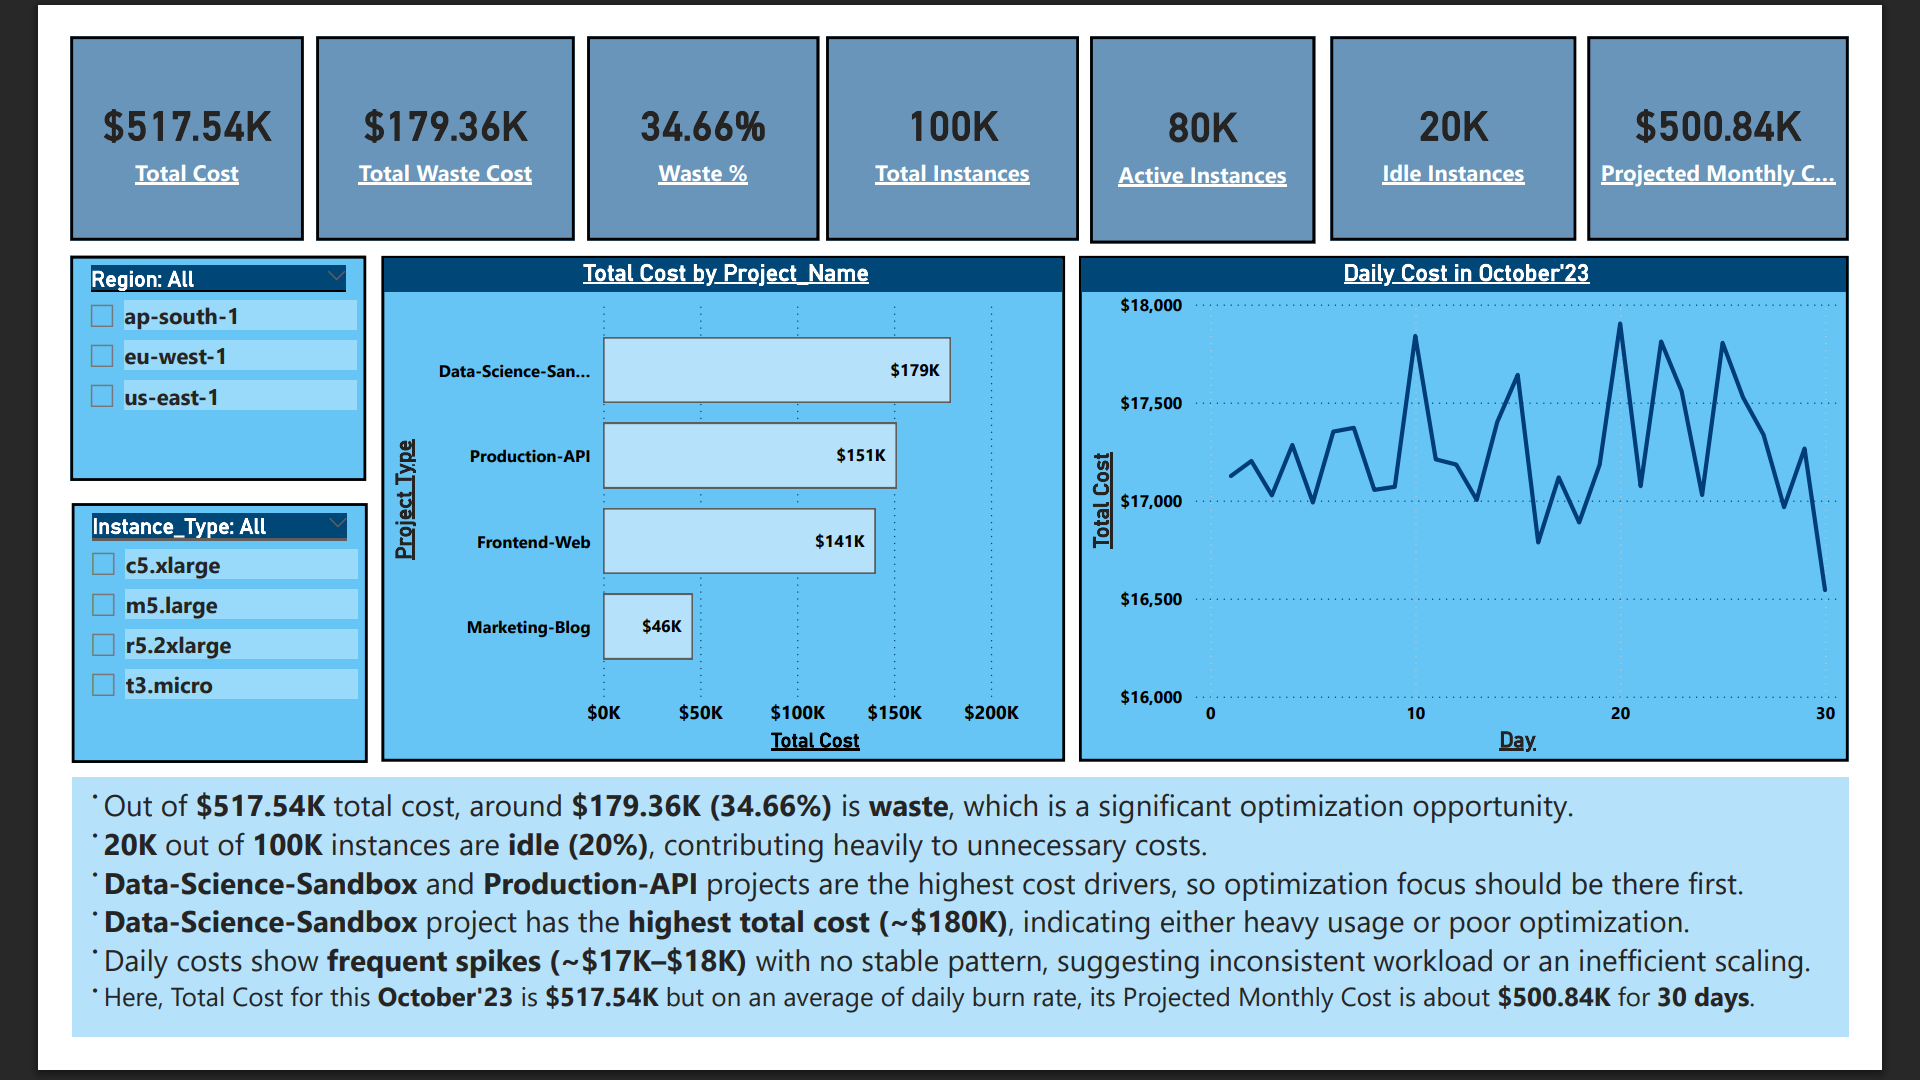

The page's visual inventory and layout, read from the dashboard file:
{"tool":"powerbi","page":{"name":"Cost Overview","canvas":[1280,720],"ordinal":1},"visuals":[{"type":"card","fields":{"Values":["Cloud_FinOps_Logs.Total Cost"]},"box":[0,0,167.6,146.6],"z":0},{"type":"card","fields":{"Values":["Cloud_FinOps_Logs.Total Waste Cost"]},"box":[176.9,0,186.2,146.6],"z":1000},{"type":"card","fields":{"Values":["Cloud_FinOps_Logs.Total Instances"]},"box":[543.5,0,182.7,146.6],"z":2000},{"type":"card","fields":{"Values":["Cloud_FinOps_Logs.Idle Instances"]},"box":[906.6,0,176.9,146.6],"z":3000},{"type":"card","fields":{"Values":["Cloud_FinOps_Logs.Waste %"]},"box":[372.4,0,166.4,146.6],"z":4000},{"type":"lineChart","title":"Daily Cost in October''23","fields":{"Y":["Cloud_FinOps_Logs.Total Cost"],"Category":["Cloud_FinOps_Logs.Log_Date.Variation.Date Hierarchy.Day"]},"box":[725.9,158.3,554,364.1],"z":5000},{"type":"clusteredBarChart","fields":{"Category":["Cloud_FinOps_Logs.Project_Name"],"Y":["Cloud_FinOps_Logs.Total Cost"]},"box":[224.4,158.1,491.9,364],"z":6000},{"type":"slicer","fields":{"Values":["Cloud_FinOps_Logs.Region"]},"box":[0,158.3,213,161.8],"z":7000},{"type":"slicer","fields":{"Values":["Cloud_FinOps_Logs.Instance_Type"]},"box":[1.2,336.4,213,186.2],"z":8000},{"type":"textbox","box":[1.2,533,1279.1,187.4],"z":9000},{"type":"card","fields":{"Values":["Cloud_FinOps_Logs.Active Instances"]},"box":[734.4,0,161.8,149],"z":10000},{"type":"card","fields":{"Values":["Cloud_FinOps_Logs.Projected Monthly Cost"]},"box":[1091.7,0,188.5,146.6],"z":11000}]}

Visuals, with their boxes in screenshot pixels (x1, y1, x2, y2), scaled from the page's 1280x720 canvas onto the 1920x1080 screenshot:
card - Cloud_FinOps_Logs.Total Cost: Rect(0, 0, 251, 220)
card - Cloud_FinOps_Logs.Total Waste Cost: Rect(265, 0, 545, 220)
card - Cloud_FinOps_Logs.Total Instances: Rect(815, 0, 1089, 220)
card - Cloud_FinOps_Logs.Idle Instances: Rect(1360, 0, 1625, 220)
card - Cloud_FinOps_Logs.Waste %: Rect(559, 0, 808, 220)
"Daily Cost in October''23" lineChart: Rect(1089, 237, 1919, 784)
clusteredBarChart - Cloud_FinOps_Logs.Project_Name x Cloud_FinOps_Logs.Total Cost: Rect(337, 237, 1074, 783)
slicer - Cloud_FinOps_Logs.Region: Rect(0, 237, 320, 480)
slicer - Cloud_FinOps_Logs.Instance_Type: Rect(2, 505, 321, 784)
textbox: Rect(2, 800, 1919, 1079)
card - Cloud_FinOps_Logs.Active Instances: Rect(1102, 0, 1344, 224)
card - Cloud_FinOps_Logs.Projected Monthly Cost: Rect(1638, 0, 1919, 220)
